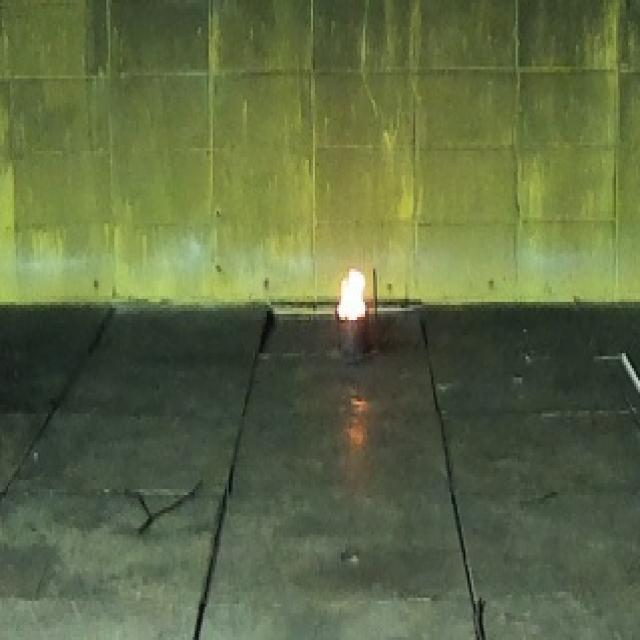Fire: (338, 267, 366, 322)
